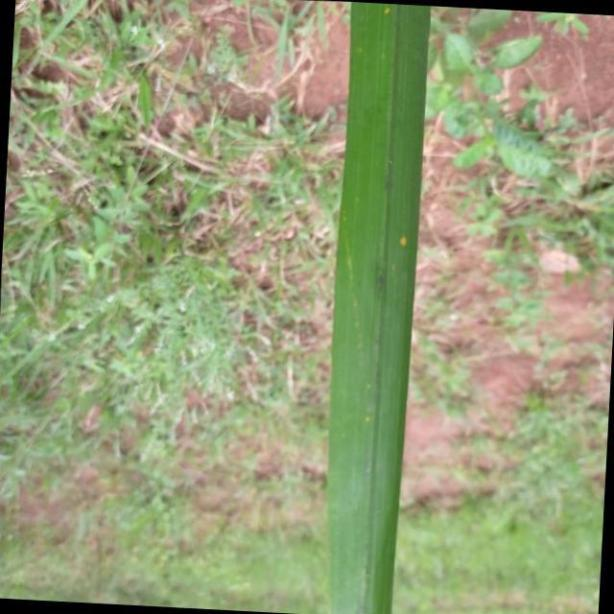Kalium: (324, 0, 435, 603)
